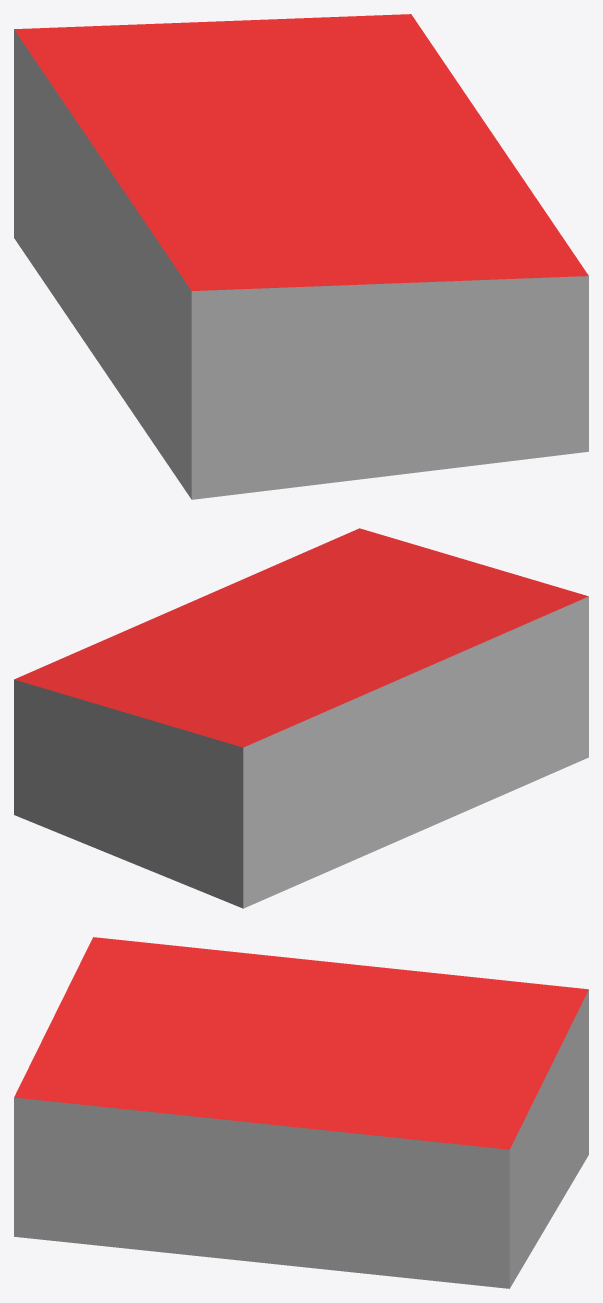
The model's file is DEBE3D04YY50000LRf.dae.
The picture shows the model from 3 angles, top to bottom: view 1: azimuth 30°, elevation 25°; view 2: azimuth 150°, elevation 25°; view 3: azimuth 270°, elevation 25°; orthographic projection. The views are drawn at different scales.
Size of the model in its own units: 6.74 by 8.78 by 2.79.
